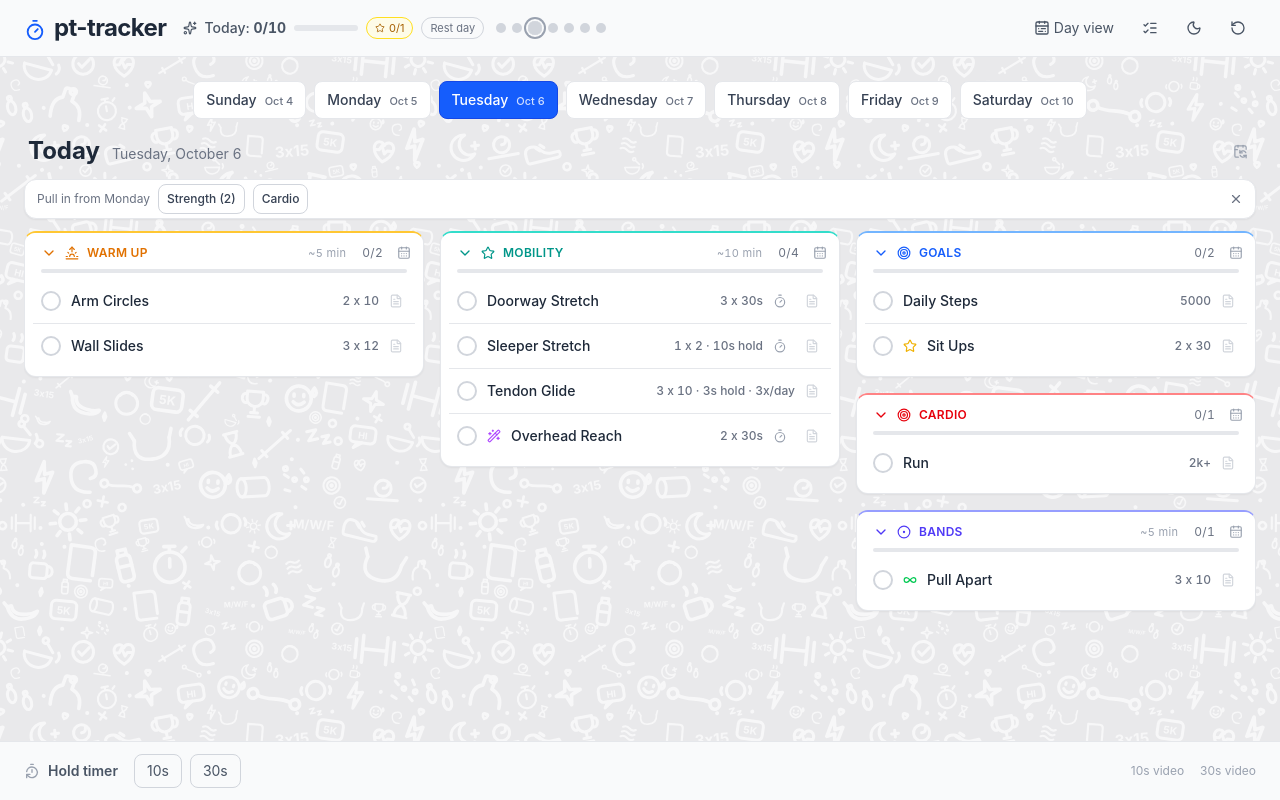
week view › marks an exercise that has a note
Click the 1st button named "Add a note": (396, 301) top-left (381, 286), bottom-right (411, 316)
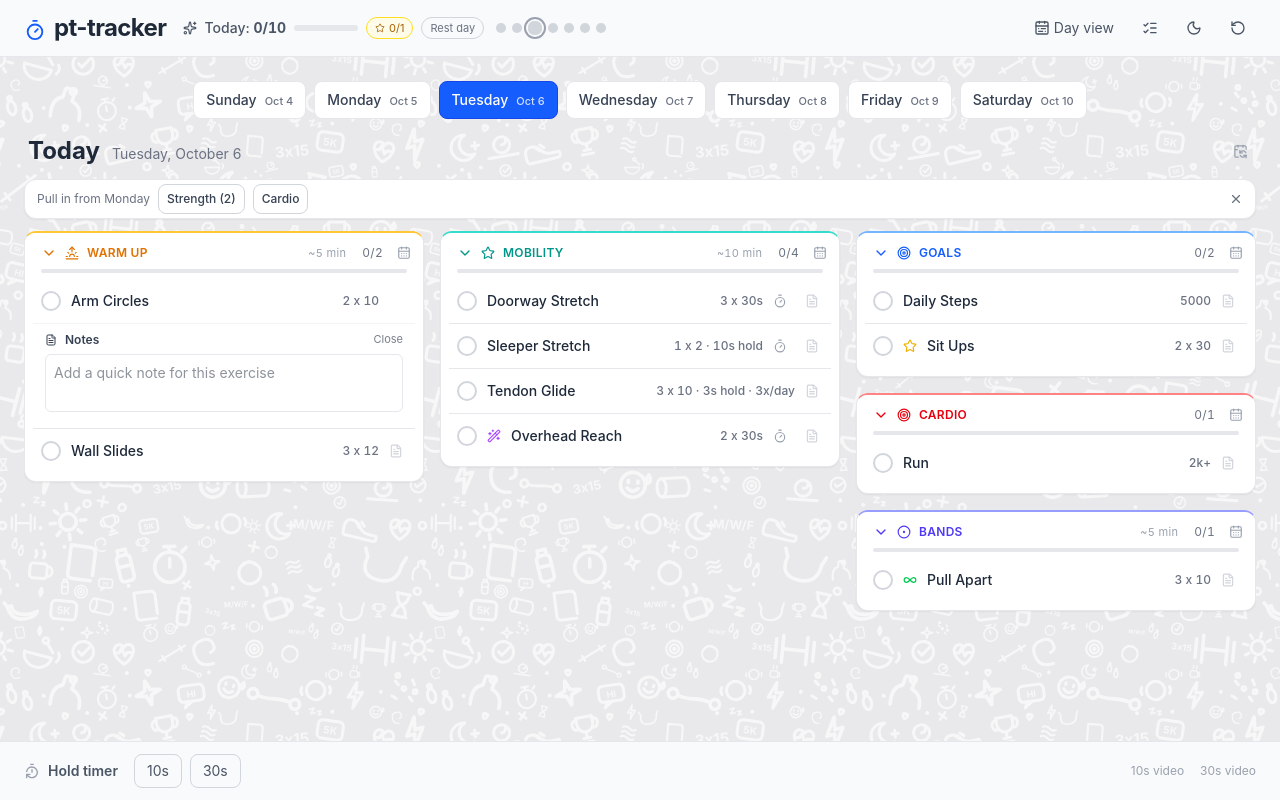
In the text box: (224, 383) top-left (45, 354), bottom-right (403, 412), type "tight today"
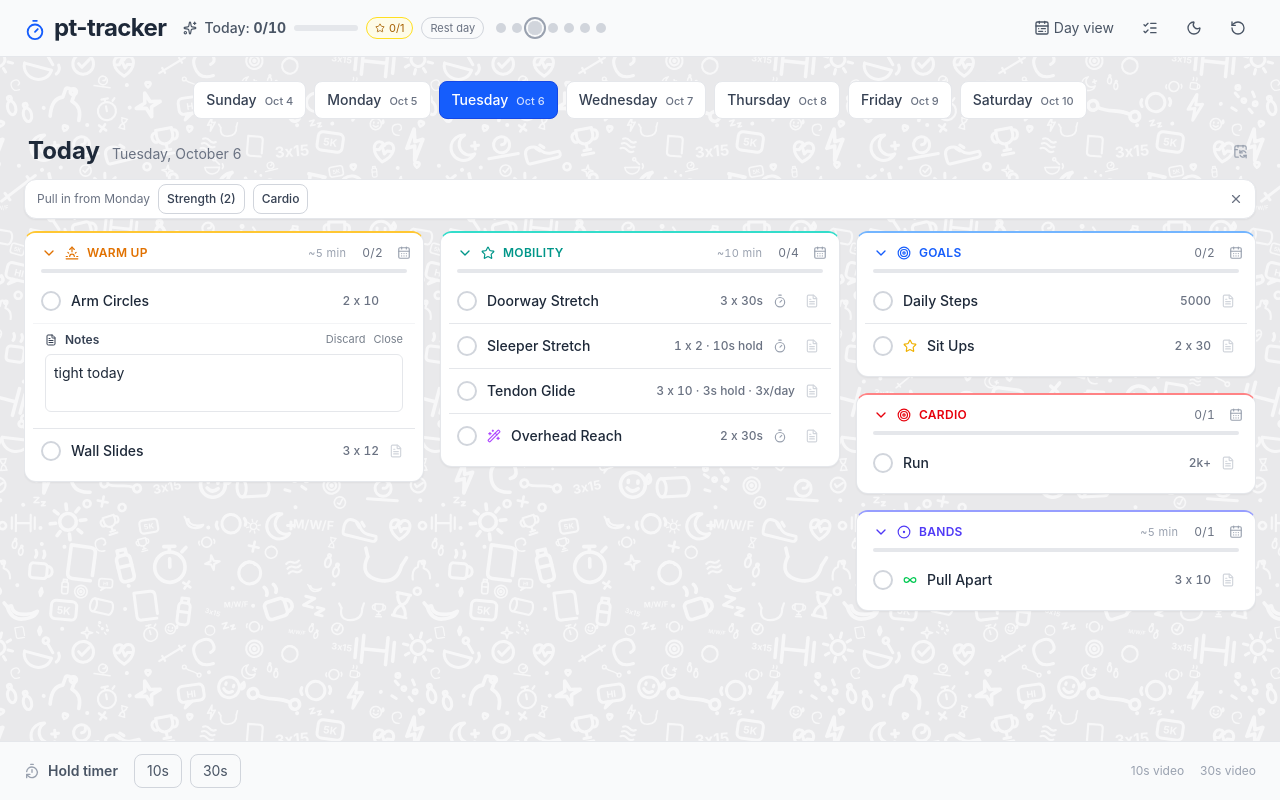
Press w
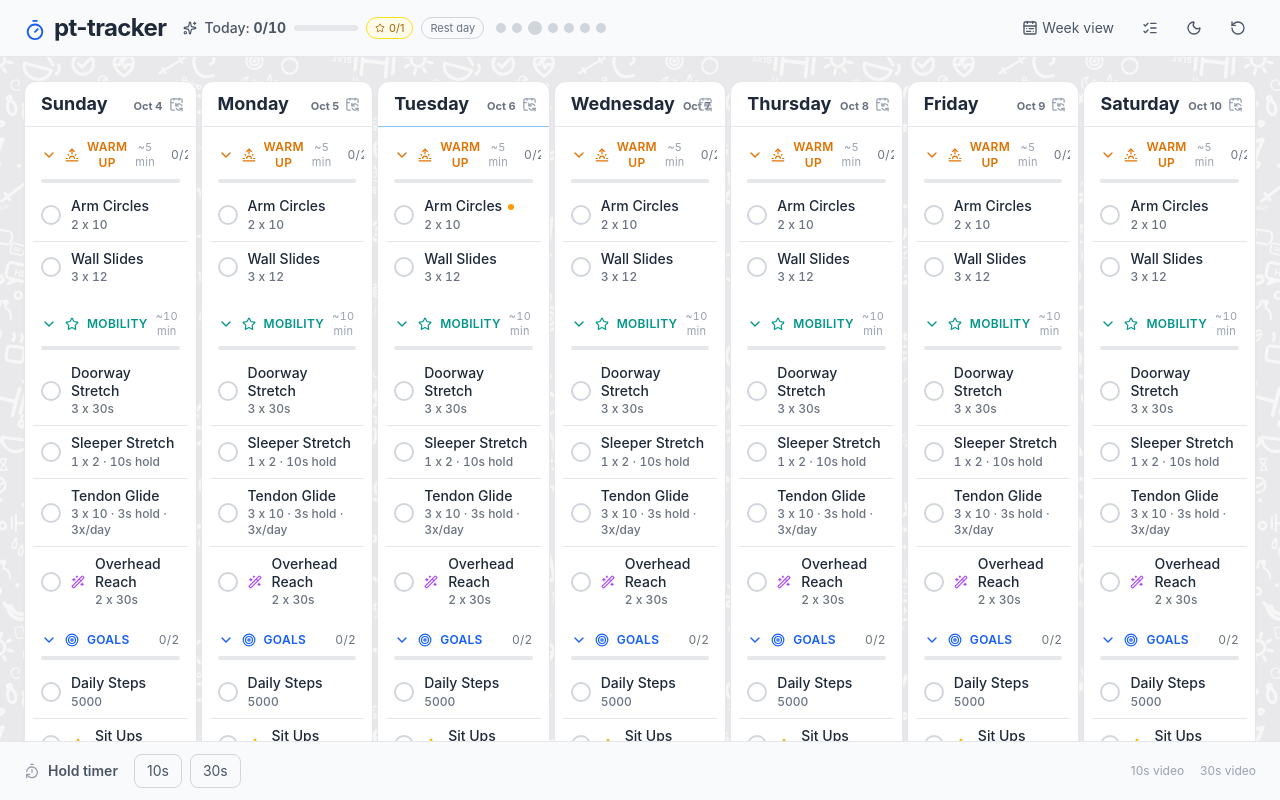
Expected: the number of elements titled "Has a note" is 1, top-left (508, 204), bottom-right (514, 210)
